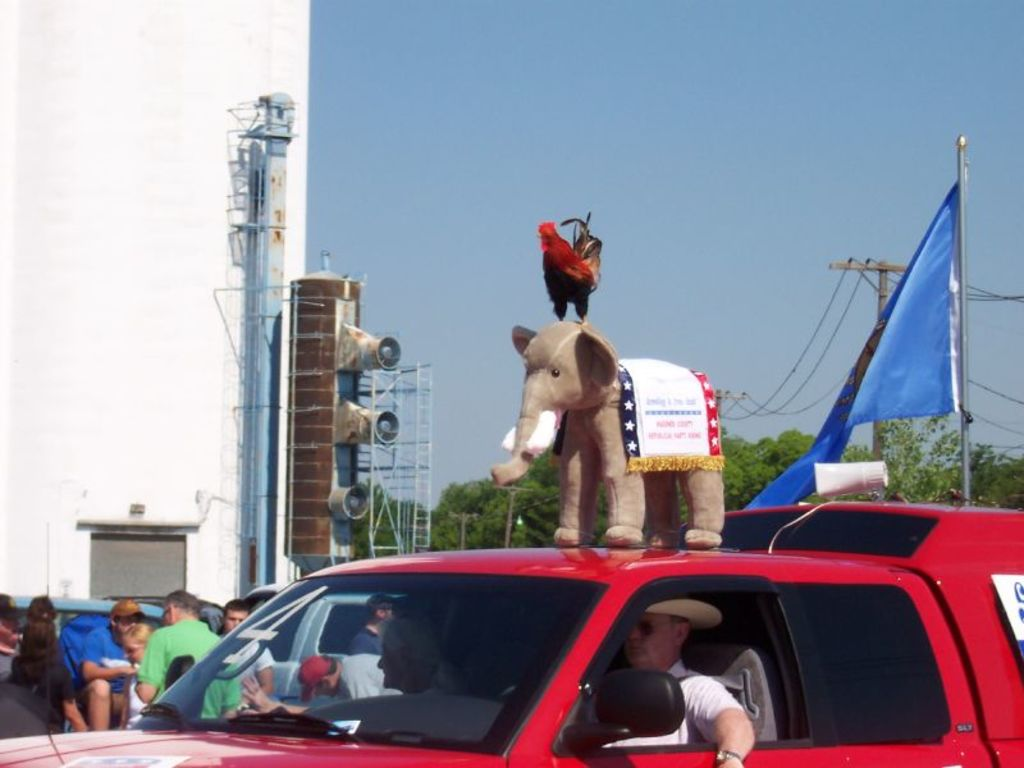cars: (0, 520, 167, 736)
